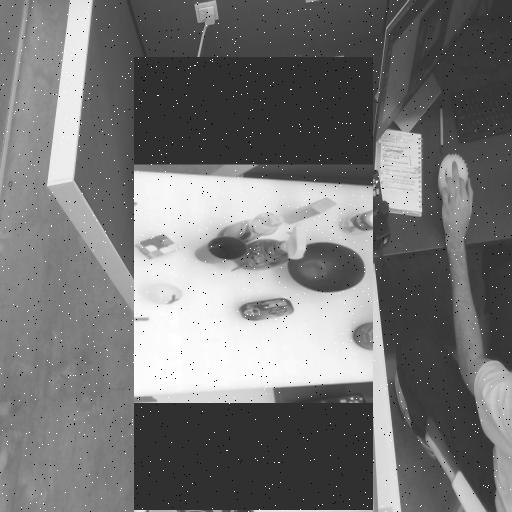bowl: (211, 174, 261, 249)
cleanser: (182, 254, 213, 319)
coffee_can: (291, 105, 320, 184)
jaco: (146, 402, 221, 511)
meat_can: (268, 245, 289, 298)
mug: (207, 291, 232, 341)
mustard_bottle: (246, 77, 266, 156)
rubik: (203, 368, 227, 393)
soup_can: (179, 144, 202, 197)
tennis_ball: (254, 364, 274, 384)
windex: (195, 244, 239, 285)
wooden_block: (166, 214, 192, 238)
workspace: (134, 171, 373, 398)
